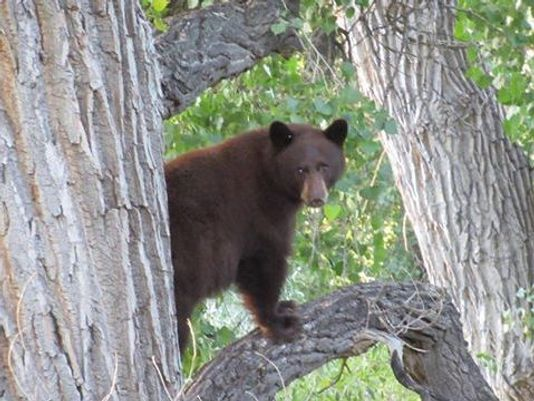bear: (261, 117, 351, 211)
